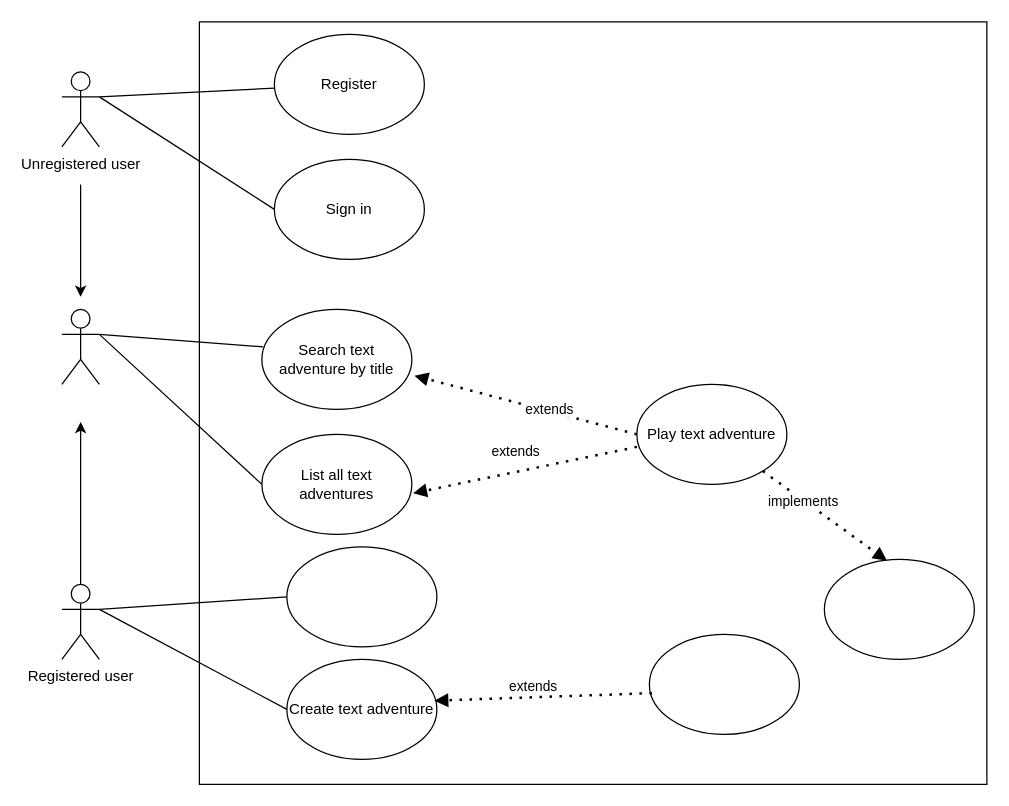
The diagram is 1009 pixels wide and 806 high, and some of its shapes have lost their labels. Here are the shapes that lost their labels. From the top down, the centre of each, then its label:
the point at 80,346: User
the point at 361,596: Show statistics
the point at 898,608: Write statistic
the point at 723,683: Add Location
